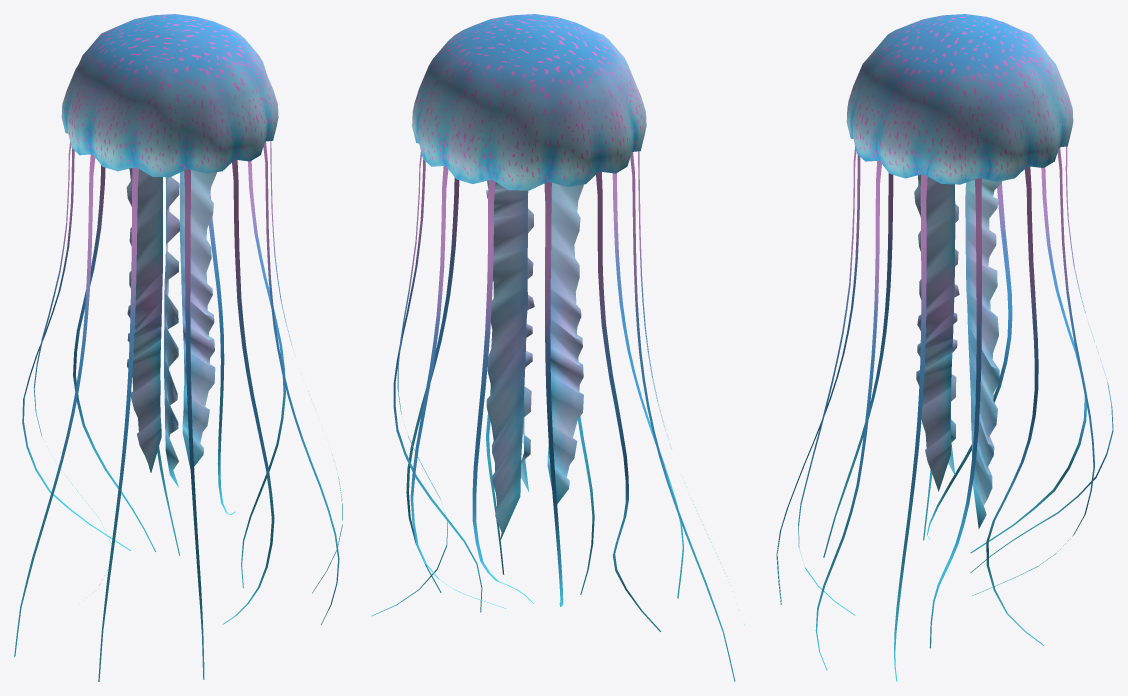
Rendered from whimsical_cartoon_jellyfish_3d_model.obj.
3 renders of one model, left to right at view 1: azimuth 30°, elevation 25°; view 2: azimuth 150°, elevation 25°; view 3: azimuth 270°, elevation 25°, orthographic. The views are drawn at different scales.
Visible parts, largest first — view 1: obj1; view 2: obj1; view 3: obj1.
Boxes of the visible parts, left/top/right/bottom form: obj1: left=14, top=14, right=342, bottom=681; obj1: left=371, top=14, right=744, bottom=681; obj1: left=776, top=14, right=1113, bottom=681.
Size of the model in its own units: 0.2432 by 0.4242 by 0.2151.
